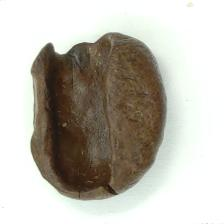NG: (28, 30, 123, 202)
